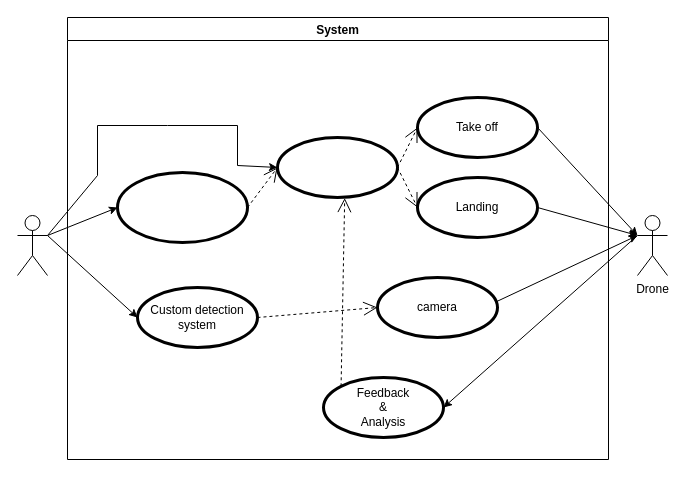
This 686x477 diagram has some shape labels left out. The box of each missing label's shape, as (x1, y1, x2, y2) in pixels:
Custom waypoints surveillance: (116, 170, 248, 244)
Flight control: (276, 136, 398, 198)
User: (16, 214, 48, 276)
